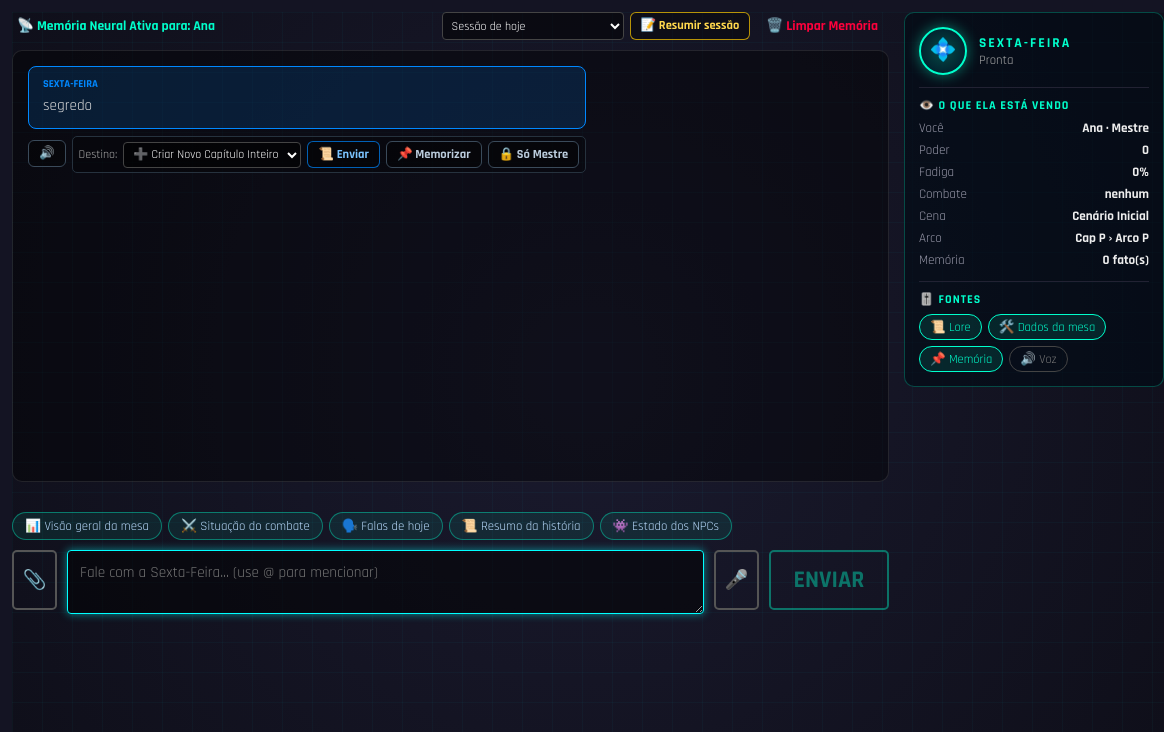
Test: AcoesMensagemIA (via AIChat) › Mestre: "Só Mestre" grava com soMestre=true
The image size is (1164, 732).
Click the button "🔒 Só Mestre". click: (533, 155)
box: [488,141,579,168]
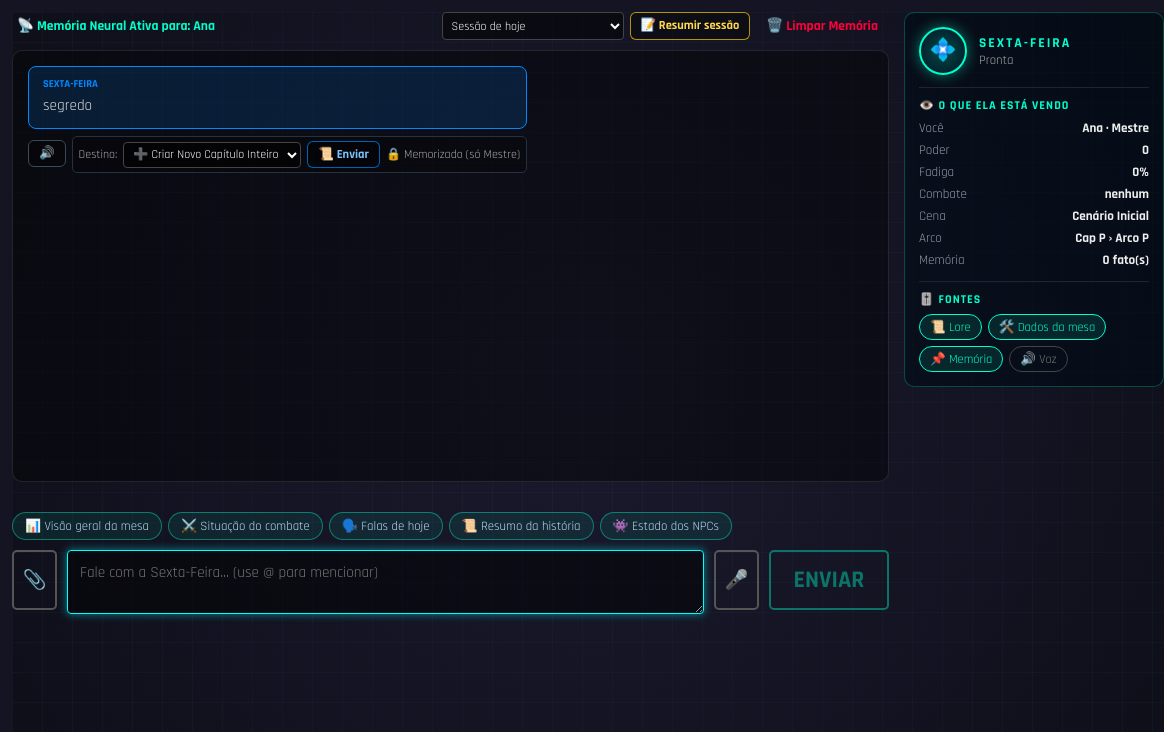
Expected: the text "🔒 Memorizado (só Mestre)" is shown, [386,147,520,162]
